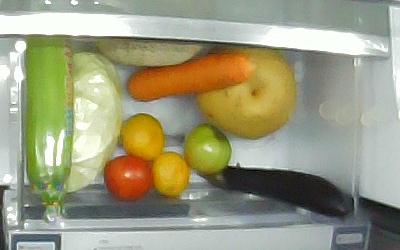cabbage: (65, 49, 122, 194)
carrot: (127, 50, 249, 102)
eggplant: (196, 162, 353, 217)
melon: (92, 38, 208, 70)
pear: (197, 43, 296, 139)
prune: (104, 155, 152, 201)
tangerine: (119, 113, 164, 160), (149, 151, 192, 197)
tomato: (183, 123, 232, 173)
zucchini: (24, 36, 74, 229)
